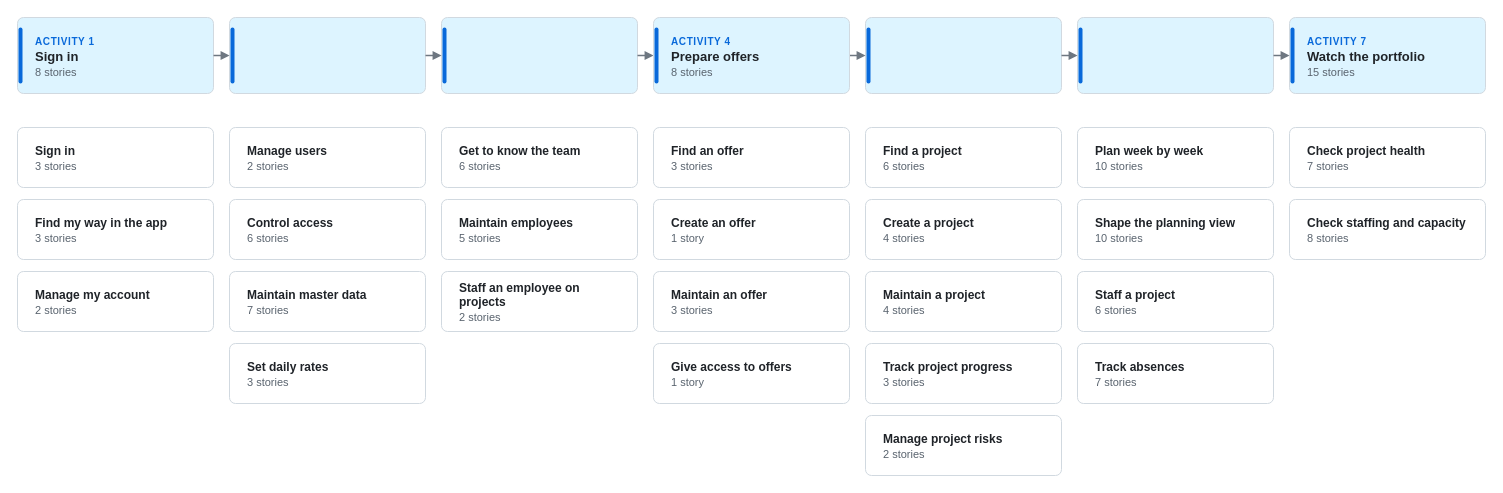
The diagram is 1503 pixels wide and 493 high, and some of its shapes have lost their labels. Here are the shapes that lost their labels. From the top down, the centre of each, then its label:
At (x=327, y=55): "ACTIVITY 2 Set up the organisation 18 stories".
At (x=539, y=55): "ACTIVITY 3 Set up the team 13 stories".
At (x=963, y=55): "ACTIVITY 5 Create and track projects 19 stories".
At (x=1175, y=55): "ACTIVITY 6 Plan capacity 33 stories".
